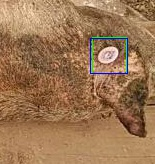text: (92, 37, 126, 73)
